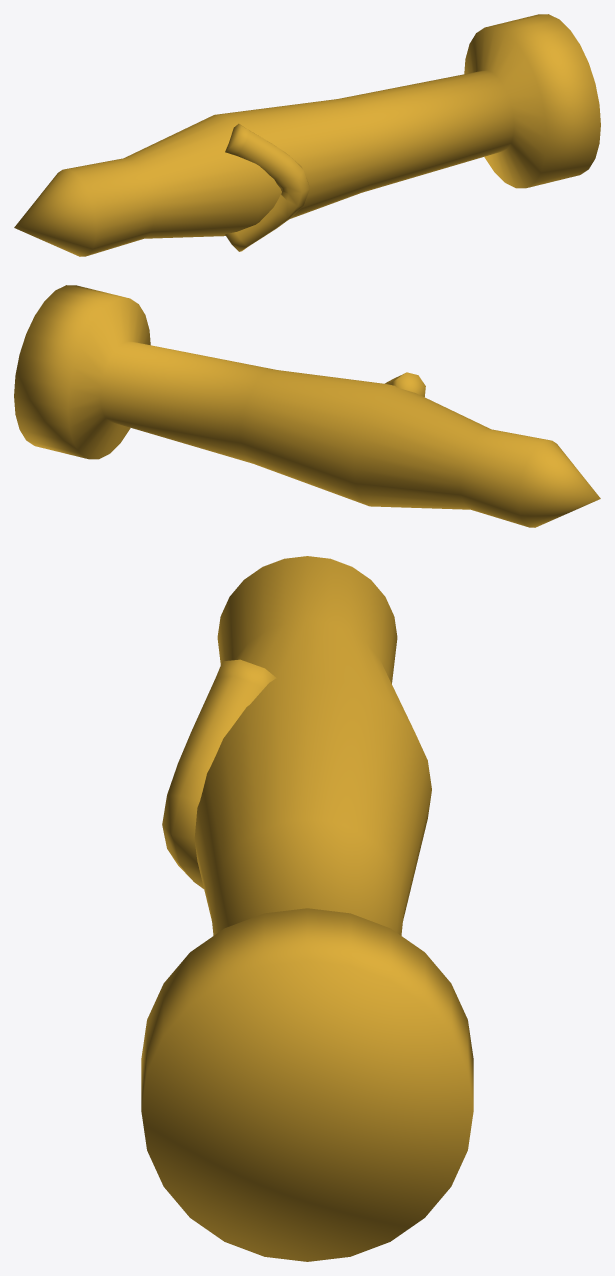
Rendered from figurine.glb.
The picture shows the model from 3 angles, top to bottom: view 1: azimuth 30°, elevation 25°; view 2: azimuth 150°, elevation 25°; view 3: azimuth 270°, elevation 25°; orthographic projection. The views are drawn at different scales.
Parts seen in each view (by area): view 1: Statuette; view 2: Statuette; view 3: Statuette.
Part boxes in pixels (x1,y1,x2,y2): Statuette: (14, 14, 600, 256); Statuette: (14, 285, 600, 527); Statuette: (141, 556, 473, 1261).
Size of the model in its own units: 0.091 by 0.024 by 0.024.
